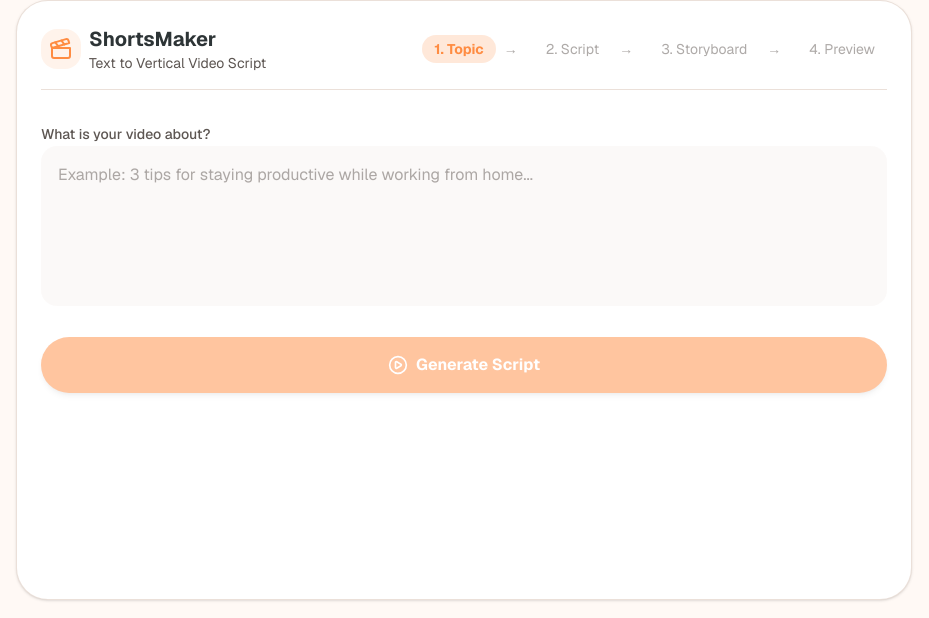
Test: ScriptWizard Component › should enable button when input is provided
Step 1. Replace the text in the text box with placeholder "Example: 3 tips" with "Test video topic" → (464,226), box [41,146,887,306]
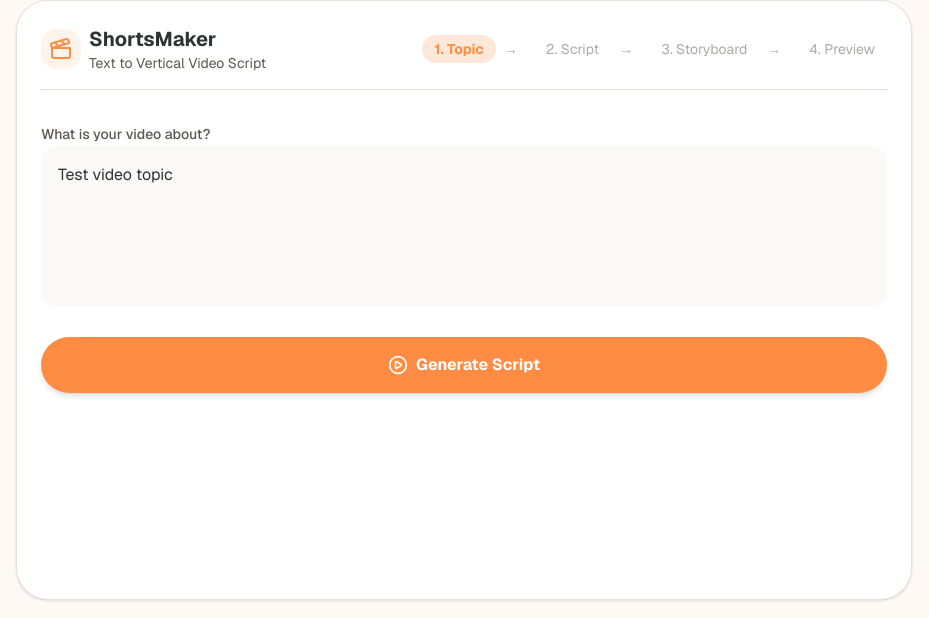
Now the button "Generate Script" is enabled, box [41,337,887,393]
